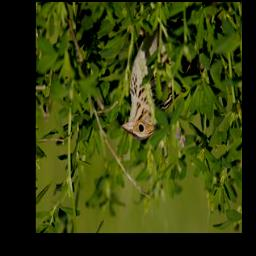Sparrow: (120, 17, 204, 142)
